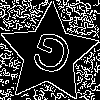G: (24, 29, 76, 86)
